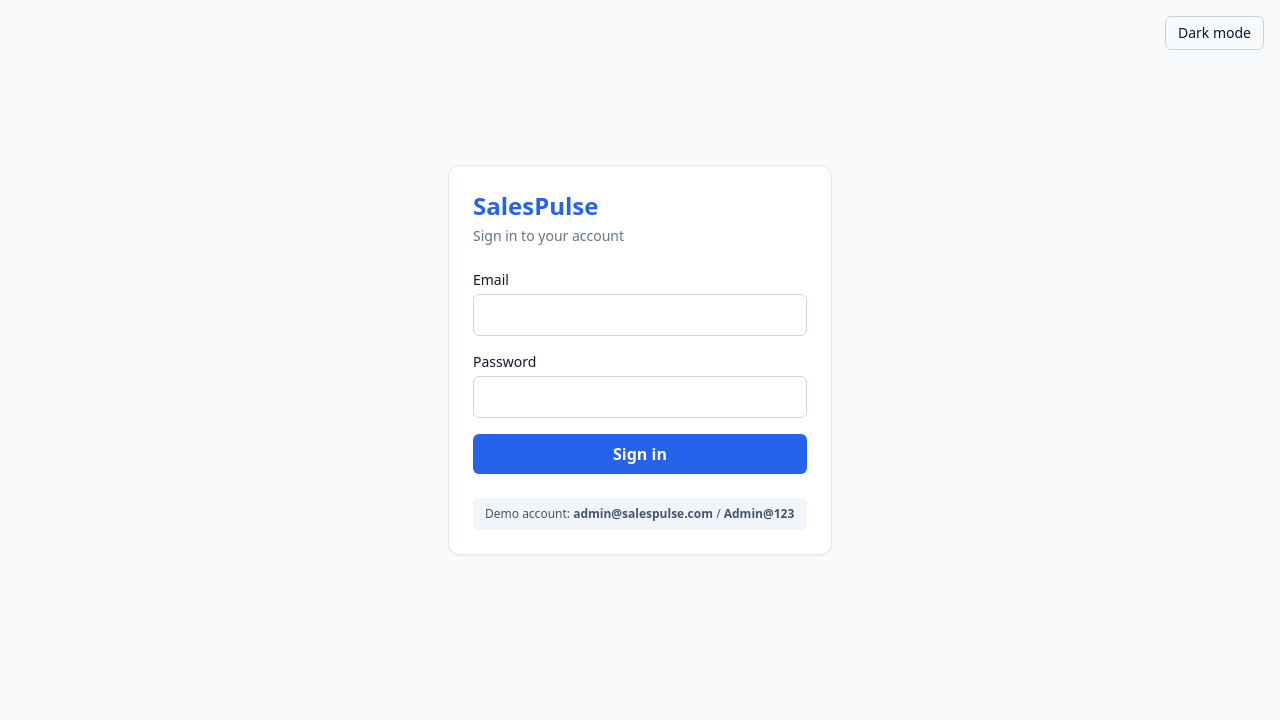
Scenario: login form › logs in with the demo account and shows the dashboard
Type "admin@salespulse.com" into the field labelled "Email". click: point(640, 315)
box: [473,294,807,336]
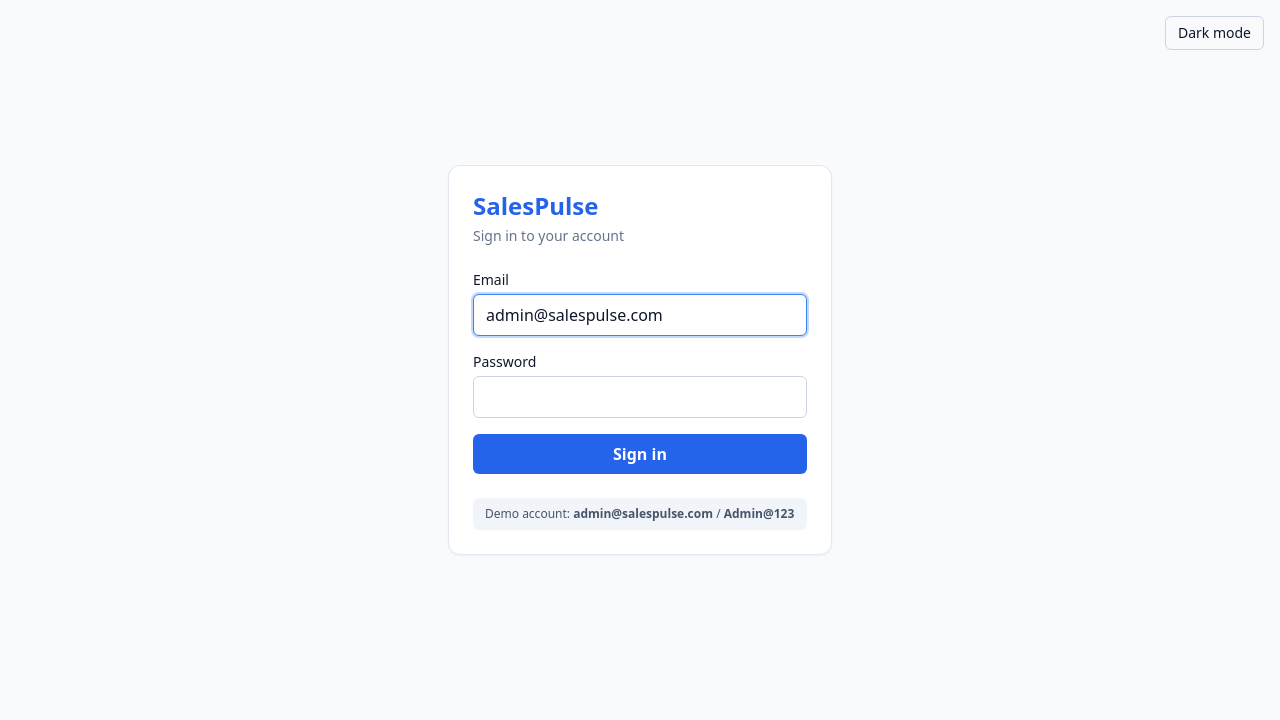
Type "Admin@123" into the password field labelled "Password". click: point(640, 397)
box: [473,376,807,418]
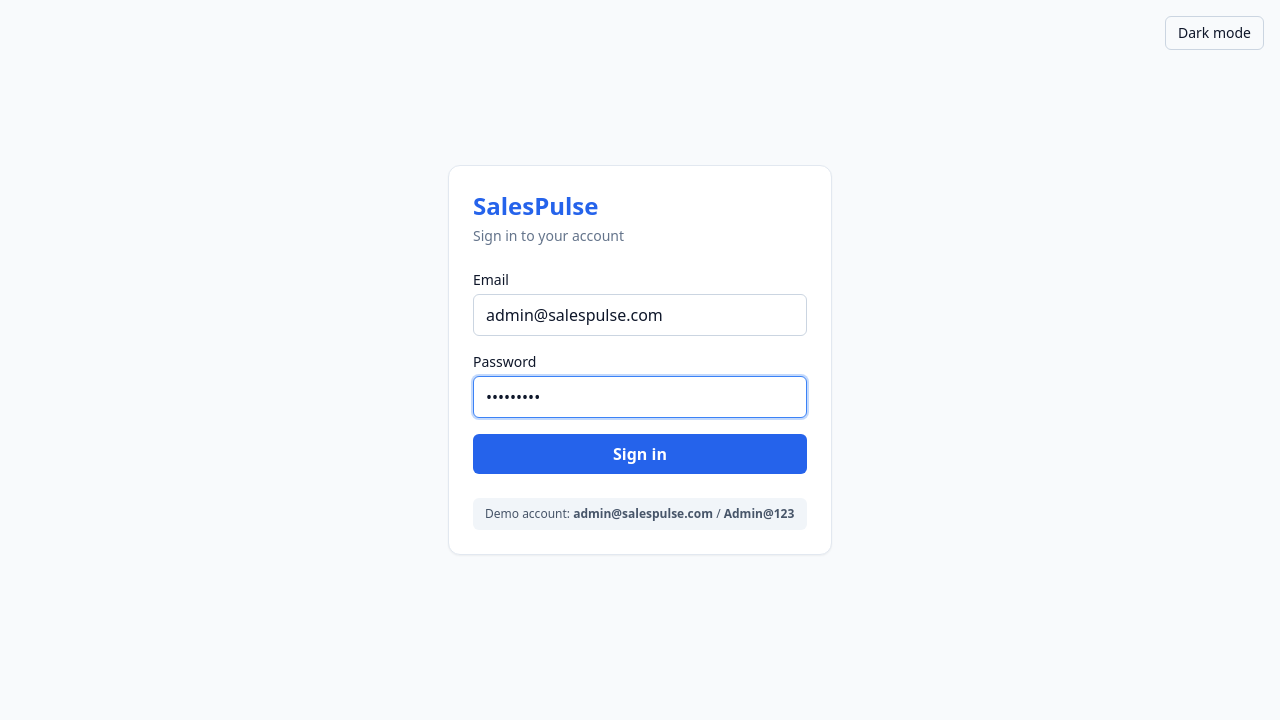
Click the button "Sign in". click: point(640, 454)
box: [473,434,807,474]
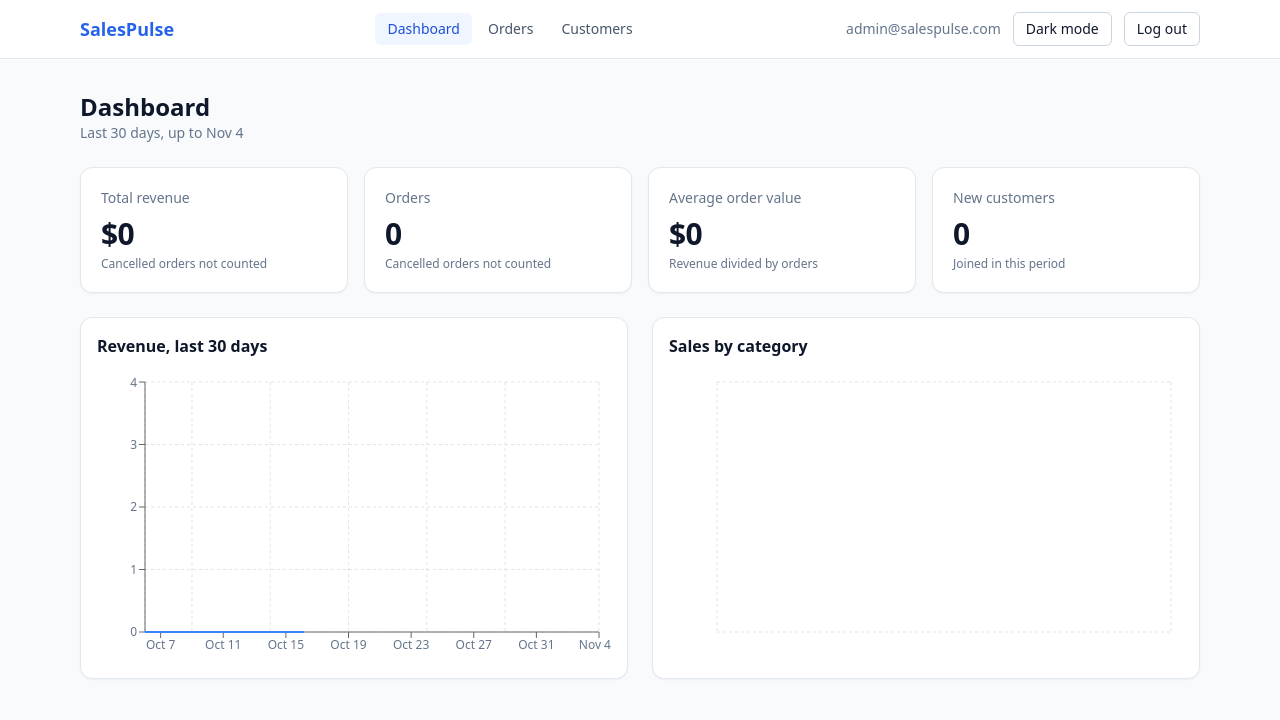
Expected: the heading "Dashboard" is shown, [80,90,210,123]
